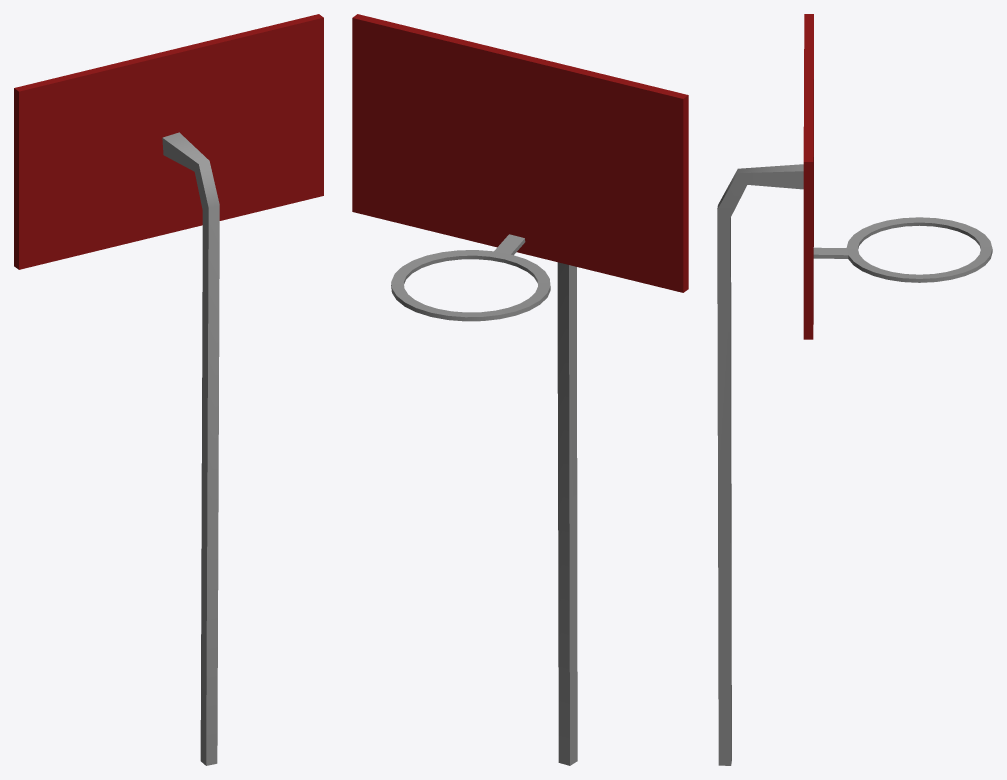
Rendered from MOD_PanierbasketV2.FBX.
3 views of the same model, side by side, from view 1: azimuth 30°, elevation 25°; view 2: azimuth 150°, elevation 25°; view 3: azimuth 270°, elevation 25° (orthographic). The views are drawn at different scales.
Parts seen in each view (by area): view 1: MOD_panierbasket; view 2: MOD_panierbasket; view 3: MOD_panierbasket.
Part boxes in pixels (box(x1,y1,x2,y2)): MOD_panierbasket: box(14, 14, 323, 765); MOD_panierbasket: box(352, 14, 688, 765); MOD_panierbasket: box(717, 14, 992, 765).
Bounding box in the file's own units: 1.69 × 3.59 × 1.33.
